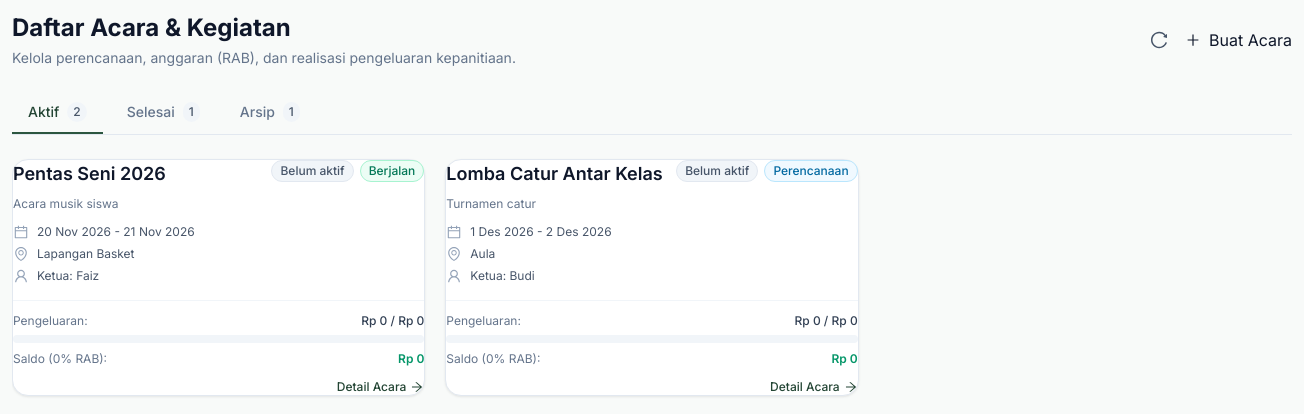
Test: PANITIA-1.7: Programs Page › renders programs list and switches tabs to filter programs
The image size is (1304, 414).
Expected: the heading "Pentas Seni 2026" is shown, x1=13 y1=160 x2=166 y2=188
Expected: the heading "Lomba Catur Antar Kelas" is shown, x1=446 y1=160 x2=663 y2=188
# Switch to 'Selesai' tab
Click the button "Selesai 1". click: coordinates (163, 113)
box: x1=111 y1=92 x2=216 y2=134
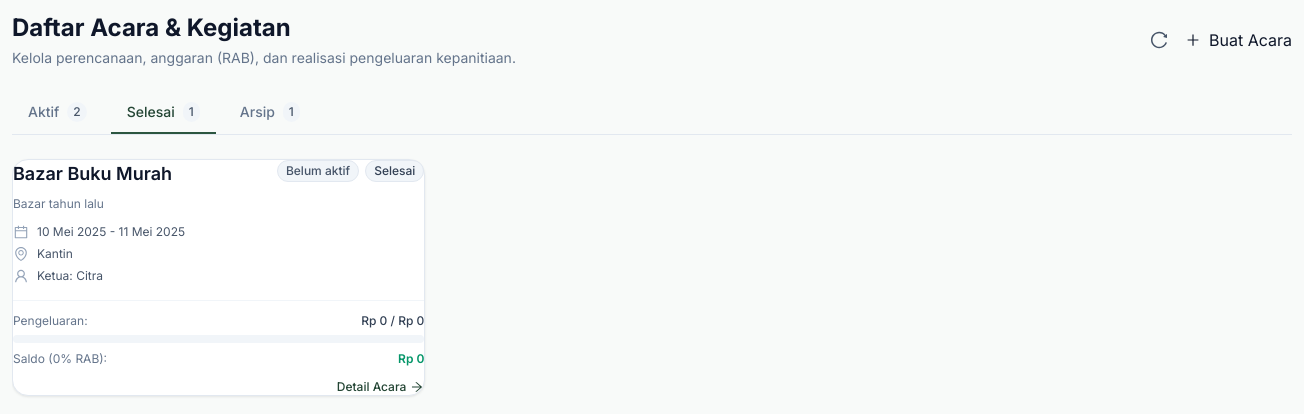
Now the heading "Bazar Buku Murah" is shown, box x1=13 y1=160 x2=172 y2=188
Now the heading "Pentas Seni 2026" is gone
# Switch to 'Arsip' tab
Click the button "Arsip 1". click: coordinates (270, 113)
box: x1=224 y1=92 x2=316 y2=134
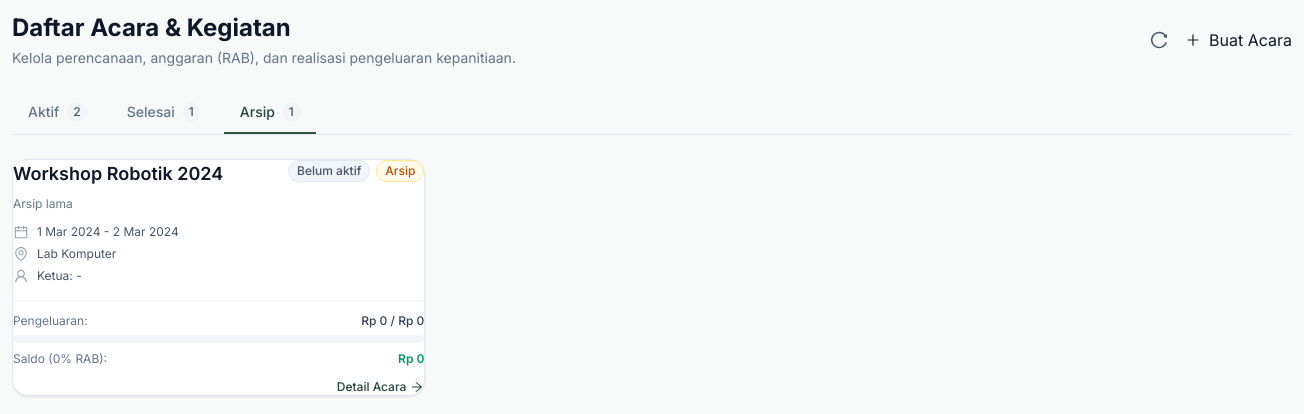
Now the heading "Workshop Robotik 2024" is shown, box x1=13 y1=160 x2=223 y2=188
Now the heading "Bazar Buku Murah" is gone
